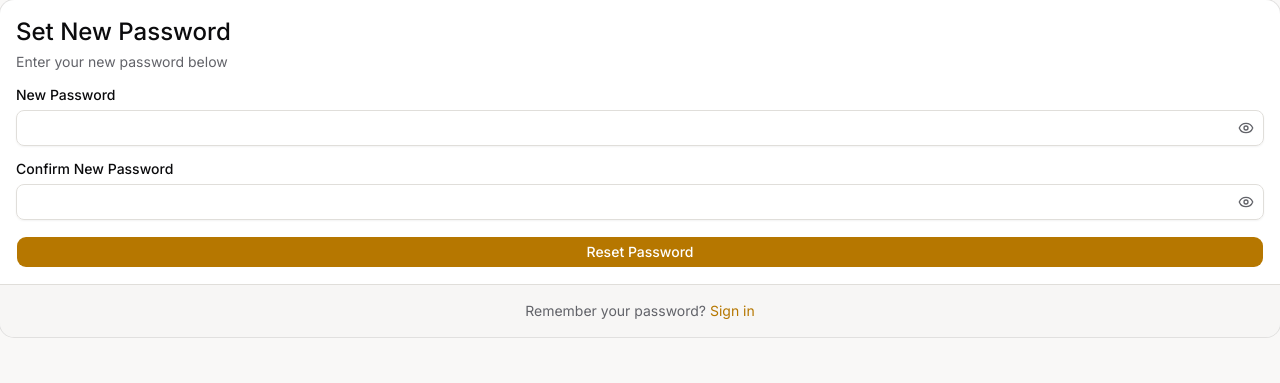
Test case: ResetPasswordForm › Validation › shows validation error for passwords under 8 characters
Type "short" into the password field labelled "New Password" at (640, 128), box [16,110,1264,146]
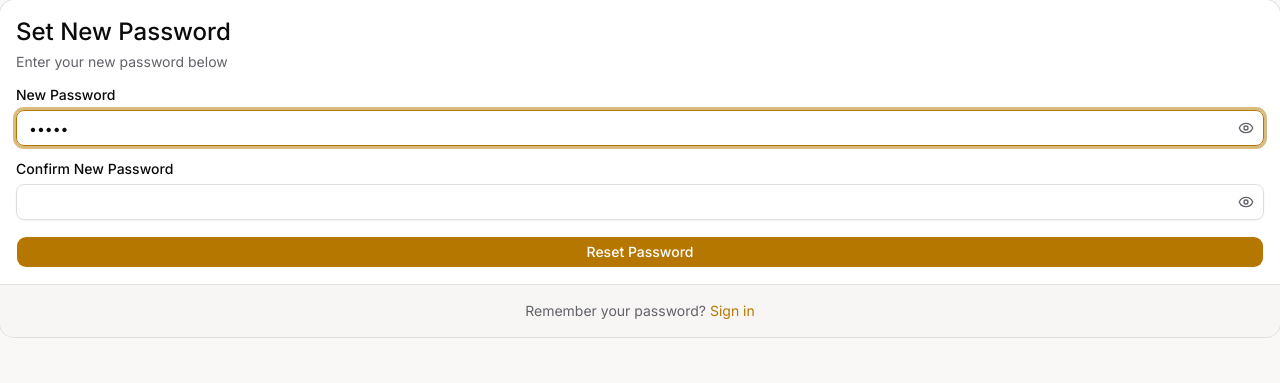
Type "short" into the password field labelled "Confirm New Password" at (640, 202), box [16,184,1264,220]
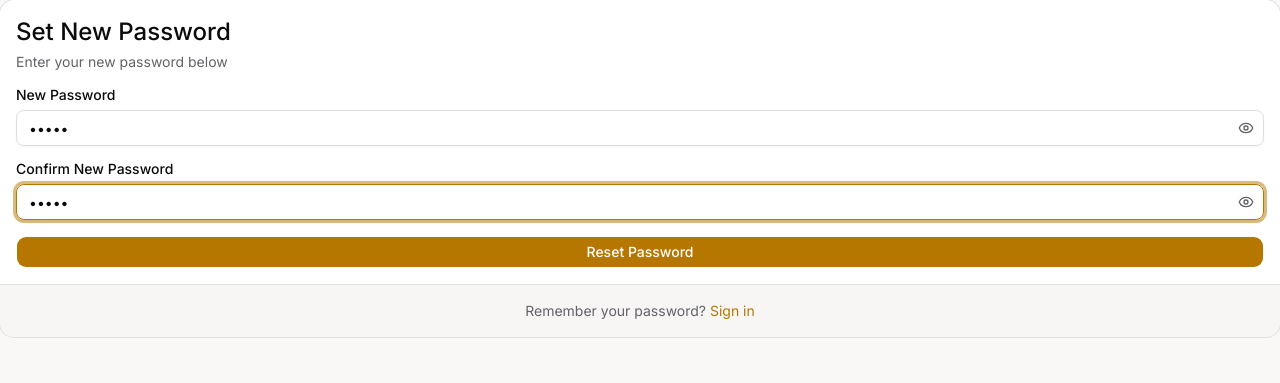
Click the button "Reset Password" at (640, 252), box [16,236,1264,268]
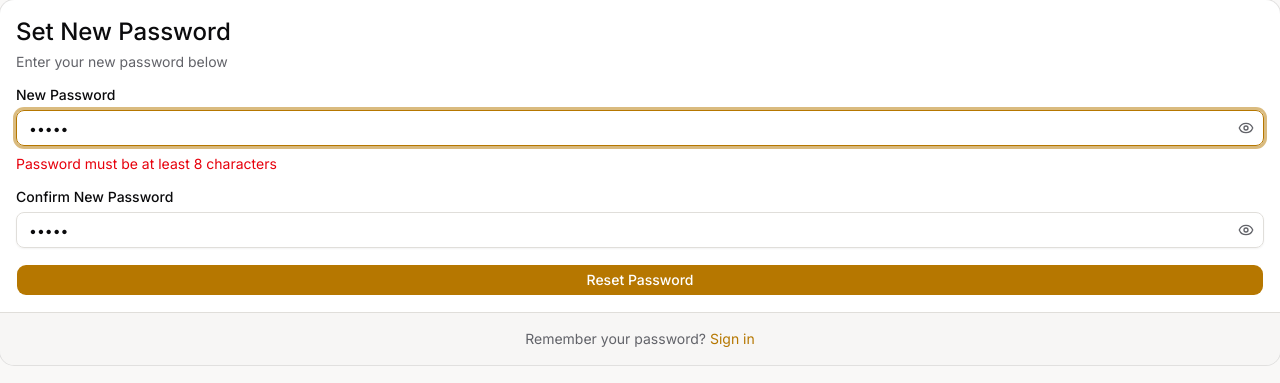
Expected: the text "Password must be at least 8 characters" is shown, [16,155,277,172]
